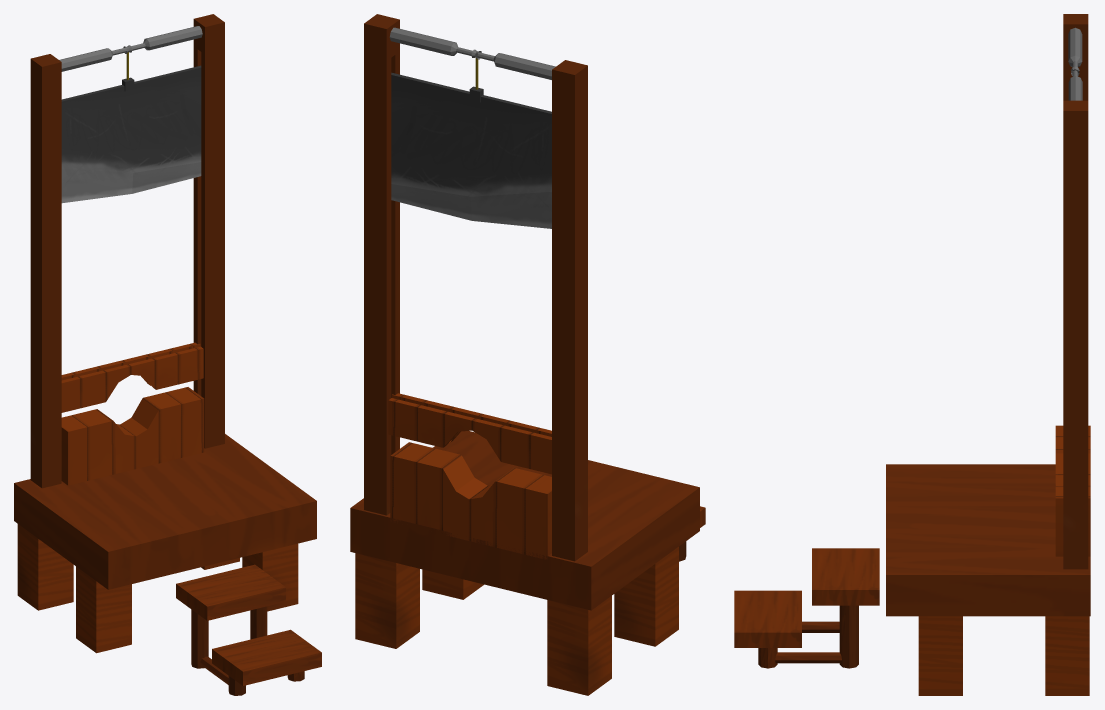
File: guillotine.glb
3 renders of one model, left to right at view 1: azimuth 30°, elevation 25°; view 2: azimuth 150°, elevation 25°; view 3: azimuth 270°, elevation 25°, orthographic. The views are drawn at different scales.
Visible parts, largest first — view 1: Cube_0; view 2: Cube_0; view 3: Cube_0.
Part boxes in pixels (x1,y1,x2,y2): Cube_0: [14, 14, 321, 695]; Cube_0: [350, 14, 705, 695]; Cube_0: [734, 14, 1090, 695].
Bounding box in the file's own units: 3.67 × 9.09 × 5.
Materials: 1 (1 with a texture image).
